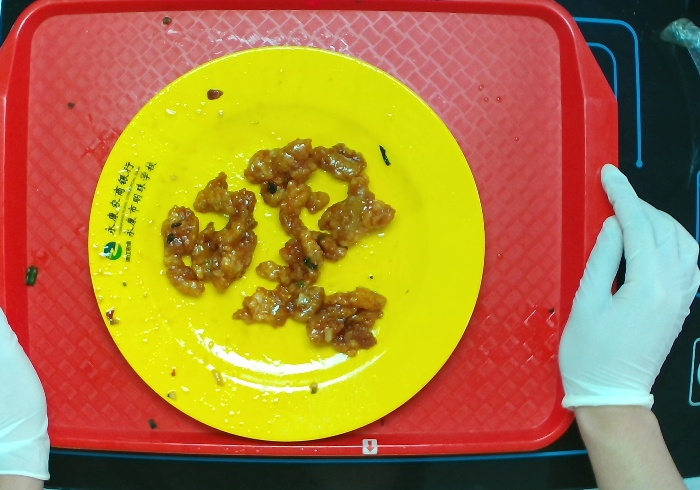YKMZ-Huang_Se_Mian_Pan: (85, 43, 496, 447)
